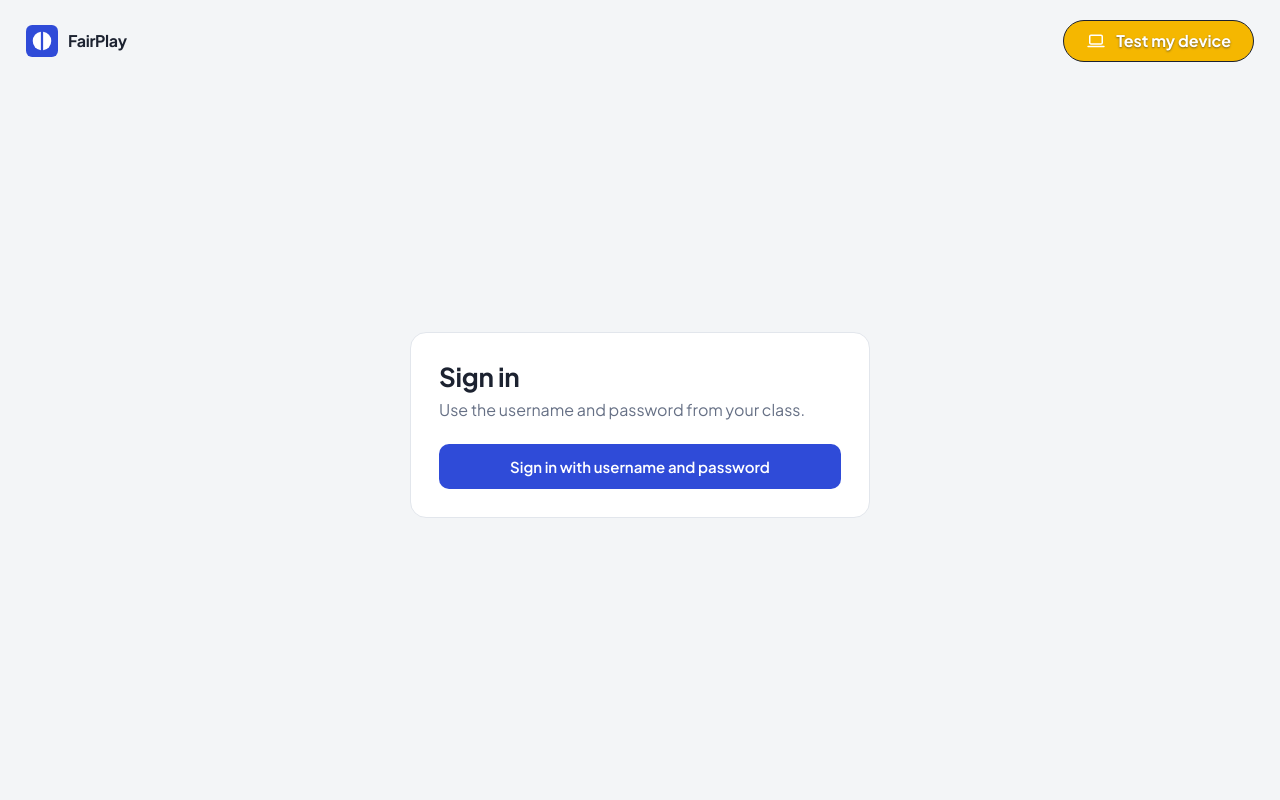
Test: device test start › falls back to the device check dialog without deviceTest
Click the button "Test my device" at (1159, 41), box [1063, 20, 1254, 62]
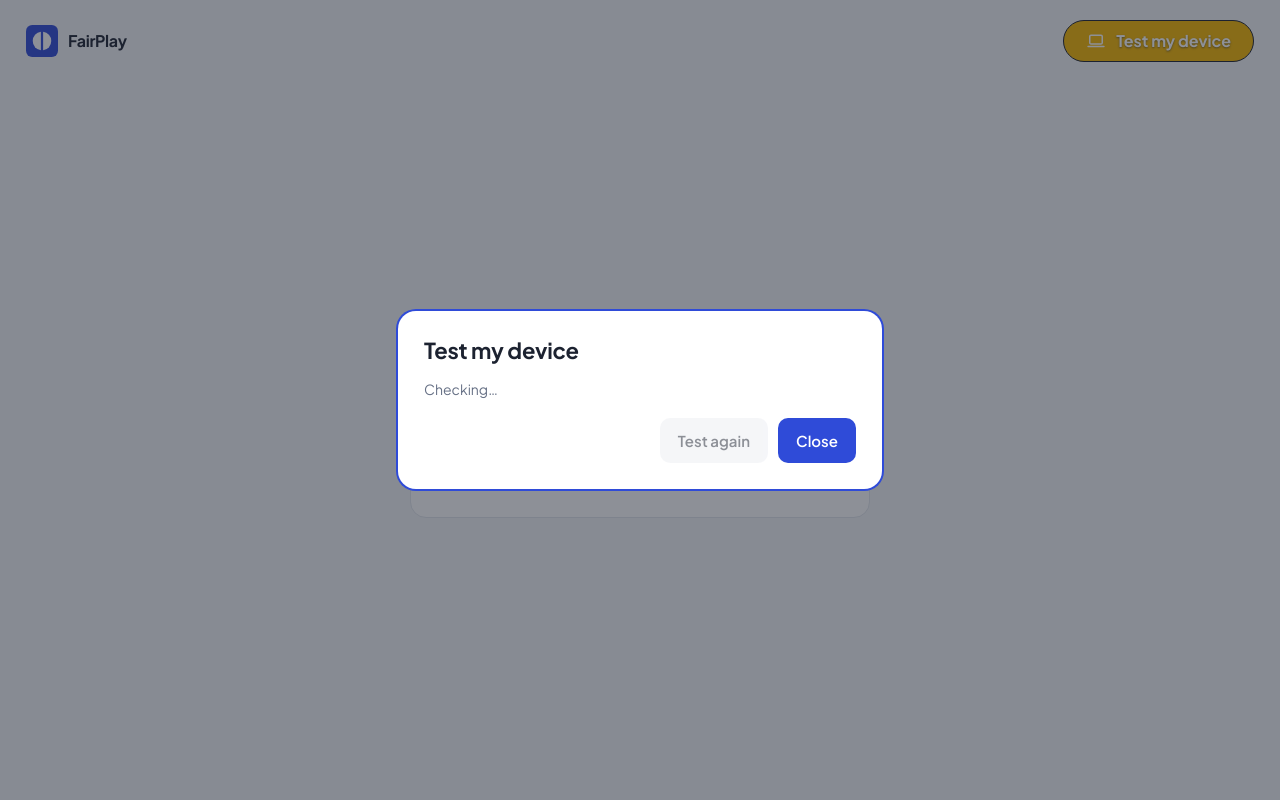
Check: the dialog "Test my device" is shown, box [400, 313, 880, 487]
